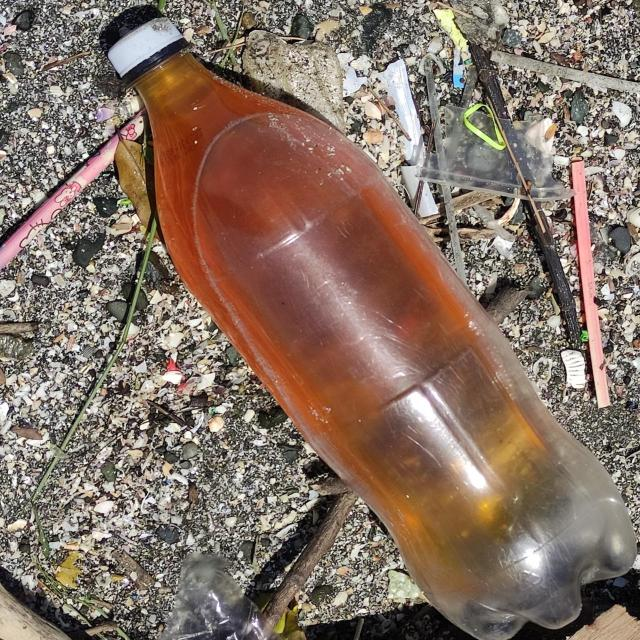plastic_waste: (107, 17, 638, 640)
